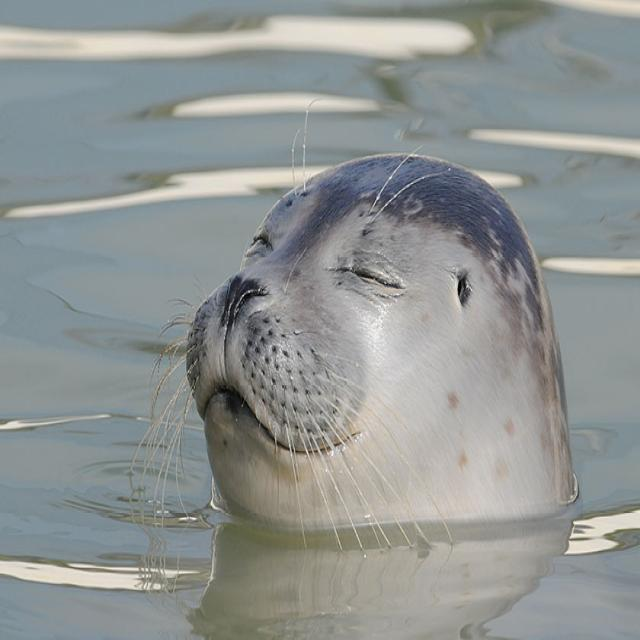WaterDog: (148, 145, 582, 529)
